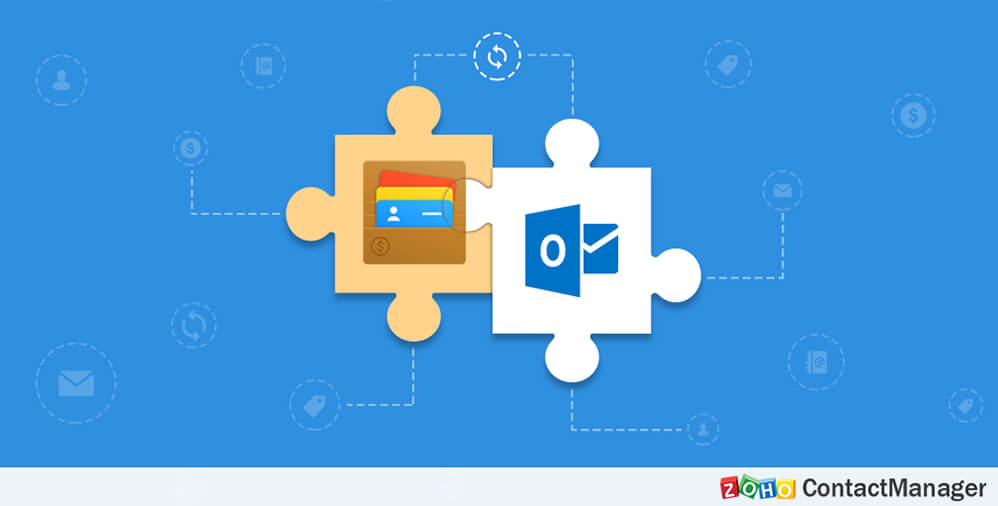zoho: (717, 474, 797, 500)
